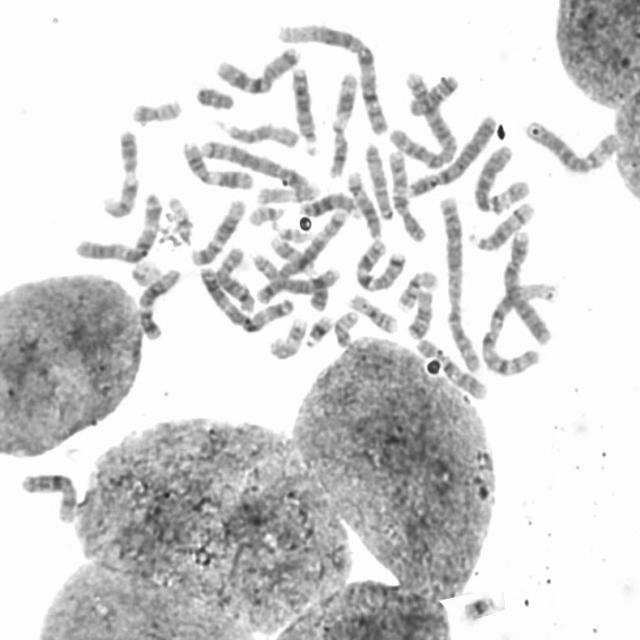A1: (270, 16, 390, 137), (476, 276, 560, 378)
A2: (434, 186, 483, 375), (382, 66, 459, 170)
A3: (68, 185, 165, 263), (195, 260, 296, 333)
B4: (402, 107, 498, 198), (498, 225, 555, 346)
B5: (250, 204, 348, 304), (193, 132, 312, 191)
C10: (411, 331, 490, 401), (382, 142, 428, 242)
C11: (176, 134, 256, 191), (322, 64, 360, 179)
C12: (186, 191, 247, 267), (133, 262, 182, 342)
C6: (520, 112, 622, 176), (468, 137, 532, 214)
C7: (210, 40, 303, 96), (350, 232, 409, 294)
C8: (246, 247, 337, 302), (210, 241, 256, 315)
C9: (264, 230, 331, 310), (96, 122, 142, 220)
D13: (286, 59, 321, 156), (294, 187, 362, 220)
D14: (465, 194, 536, 252), (342, 165, 383, 239)
D15: (360, 137, 395, 221), (220, 114, 302, 149)
E16: (343, 287, 399, 335), (392, 264, 439, 311)
E17: (264, 312, 310, 361), (251, 177, 321, 205)
E18: (404, 68, 460, 117), (402, 283, 435, 341)
F19: (163, 190, 194, 246), (130, 258, 168, 292)
F20: (126, 91, 184, 126), (329, 304, 360, 348)
G21: (456, 587, 498, 623), (300, 308, 334, 348)
G22: (243, 198, 287, 228), (272, 220, 310, 243)
X: (15, 465, 80, 524)
Y: (190, 78, 237, 112)
